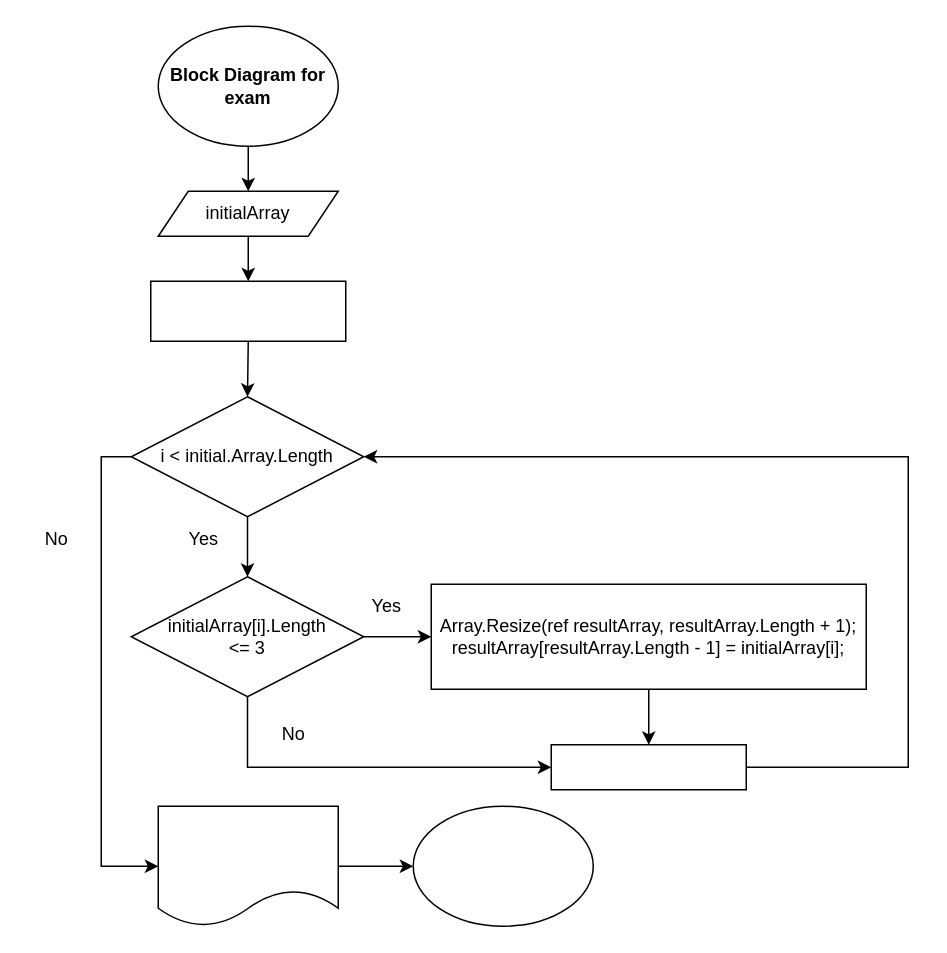
This 947x953 diagram has some shape labels left out. Here are the shapes that lost their labels. From the top down, the centre of each, then its label:
At (x=247, y=310): "resultArray = empty i = 1".
At (x=648, y=766): "i++".
At (x=247, y=865): "resultArray".
